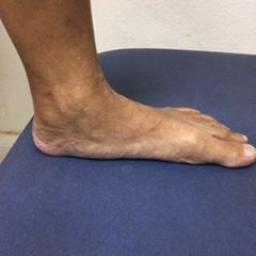Medial View -Left Foot-: (18, 56, 255, 188)
